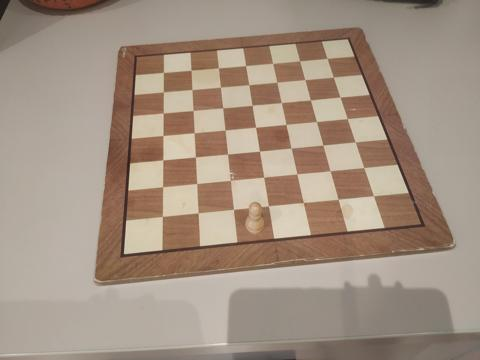xcorner: (158, 212, 168, 222), (158, 182, 168, 192), (295, 169, 305, 179), (321, 140, 331, 150), (221, 124, 231, 134), (314, 116, 324, 126), (158, 107, 168, 117), (216, 81, 226, 91), (302, 74, 312, 84), (186, 64, 196, 74), (231, 205, 240, 215), (266, 202, 276, 211), (302, 198, 311, 208), (372, 191, 381, 201), (193, 179, 202, 189), (227, 176, 237, 185), (261, 173, 271, 182), (329, 166, 338, 176), (158, 155, 168, 164), (191, 152, 201, 161), (224, 149, 234, 158), (289, 143, 299, 152), (353, 137, 362, 147), (158, 130, 168, 139), (190, 127, 199, 137), (249, 99, 258, 109), (278, 97, 288, 106), (308, 94, 317, 104), (337, 92, 347, 101), (158, 86, 168, 95), (245, 79, 255, 88), (274, 76, 283, 86), (330, 72, 340, 81), (158, 67, 168, 76), (214, 62, 224, 71), (269, 58, 279, 67), (297, 55, 306, 65), (324, 53, 333, 63), (195, 209, 204, 218), (337, 195, 346, 204), (362, 163, 371, 172), (257, 146, 266, 155), (253, 122, 262, 131), (284, 119, 293, 128), (345, 114, 354, 123), (189, 105, 198, 114), (219, 102, 228, 111), (188, 84, 197, 93), (242, 60, 251, 69)
